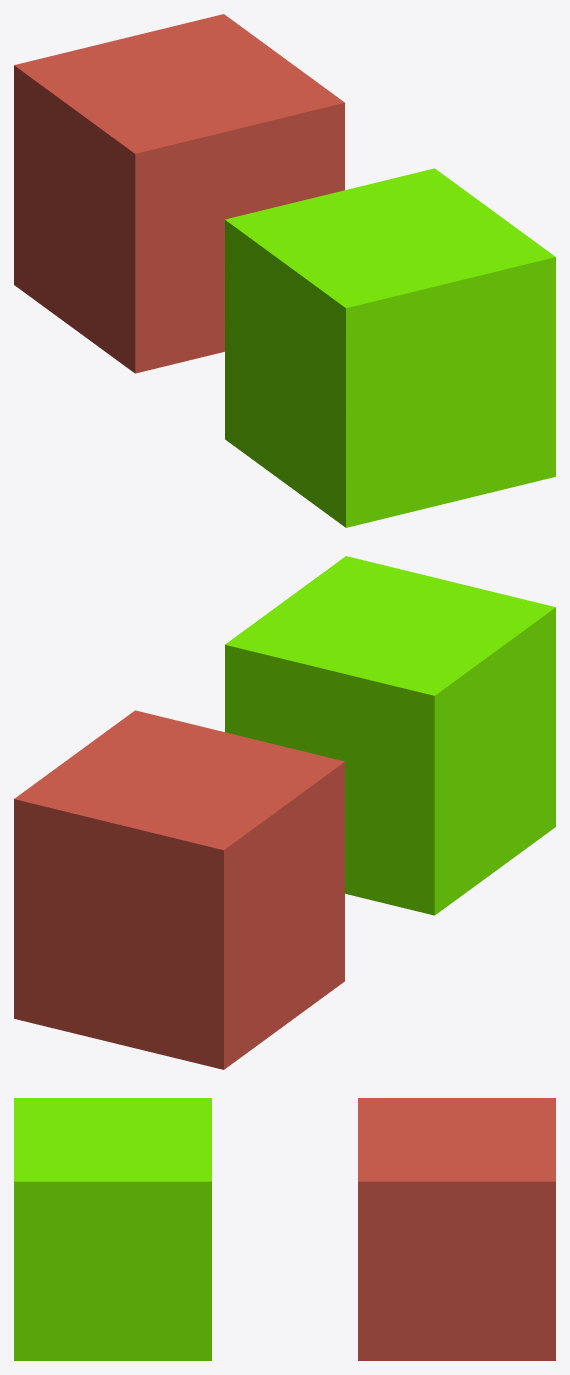
The model's file is sampleBlock.gltf.
The picture shows the model from 3 angles, top to bottom: view 1: azimuth 30°, elevation 25°; view 2: azimuth 150°, elevation 25°; view 3: azimuth 270°, elevation 25°; orthographic projection. The views are drawn at different scales.
Parts seen in each view (by area): view 1: 立方体.001; view 2: 立方体.001; view 3: 立方体.001.
Boxes of the visible parts, left/top/right/bottom form: 立方体.001: left=14, top=14, right=555, bottom=527; 立方体.001: left=14, top=556, right=555, bottom=1069; 立方体.001: left=14, top=1098, right=555, bottom=1360.
Size of the model in its own units: 2 by 2 by 5.48.
Materials: 2 (2 with a texture image).
